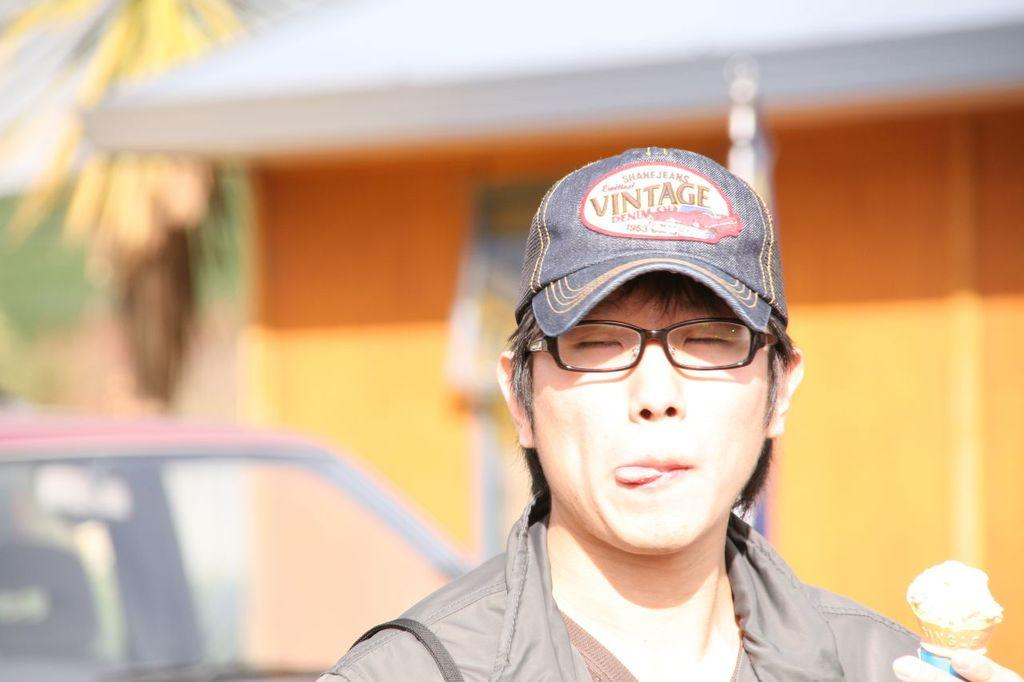Hat: (512, 147, 786, 337)
